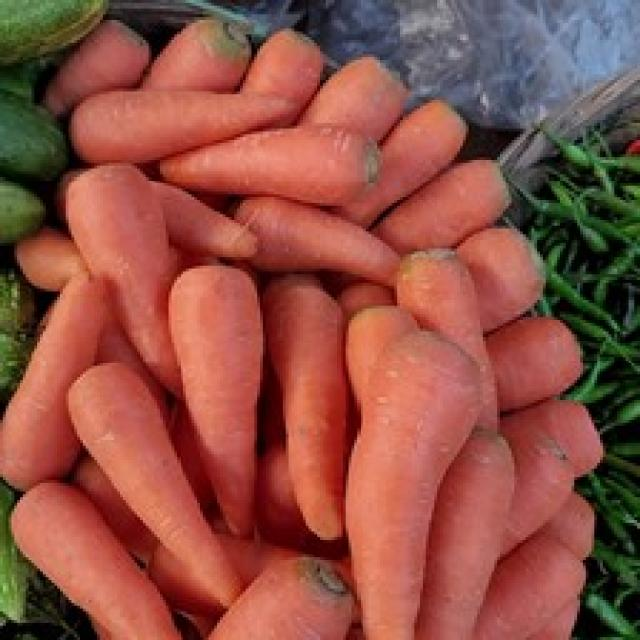Fresh_Carrot: (69, 359, 248, 604), (347, 343, 491, 635), (73, 162, 193, 387), (160, 121, 398, 204), (176, 265, 250, 502)
